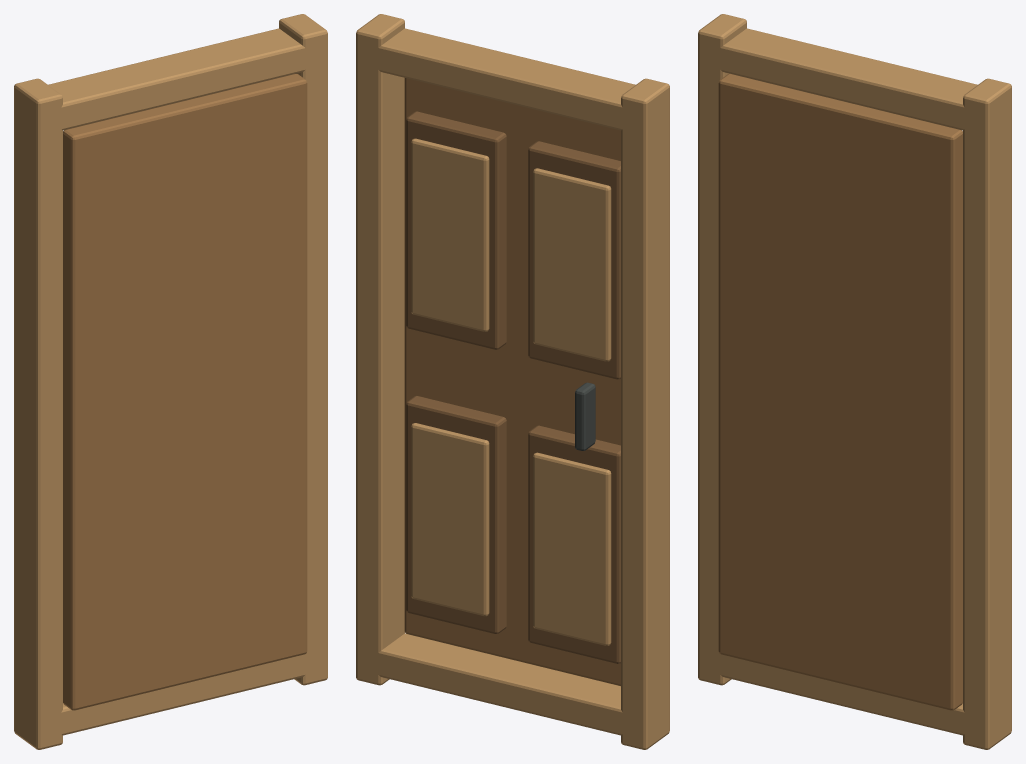
File: SM_PlayerHouse_BackDoor.fbx
The picture shows the model from 3 angles, left to right: view 1: azimuth 30°, elevation 25°; view 2: azimuth 150°, elevation 25°; view 3: azimuth 330°, elevation 25°; orthographic projection.
Parts seen in each view (by area): view 1: SM_PlayerHouse_BackDoor; view 2: SM_PlayerHouse_BackDoor; view 3: SM_PlayerHouse_BackDoor.
Part boxes in pixels (left/top/right/bottom): SM_PlayerHouse_BackDoor: left=14, top=14, right=327, bottom=749; SM_PlayerHouse_BackDoor: left=356, top=14, right=669, bottom=749; SM_PlayerHouse_BackDoor: left=698, top=14, right=1011, bottom=749.
Size of what is drawn, in the model's own units: 121 by 27.5 by 258.
